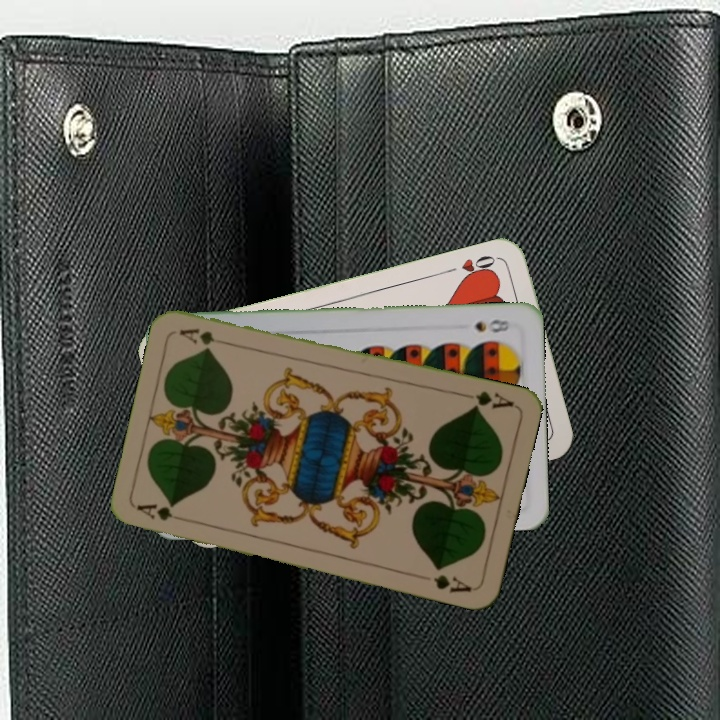GA: (134, 500, 192, 526), (468, 386, 517, 412)
HO: (442, 251, 500, 283)
S8: (470, 315, 512, 336)
